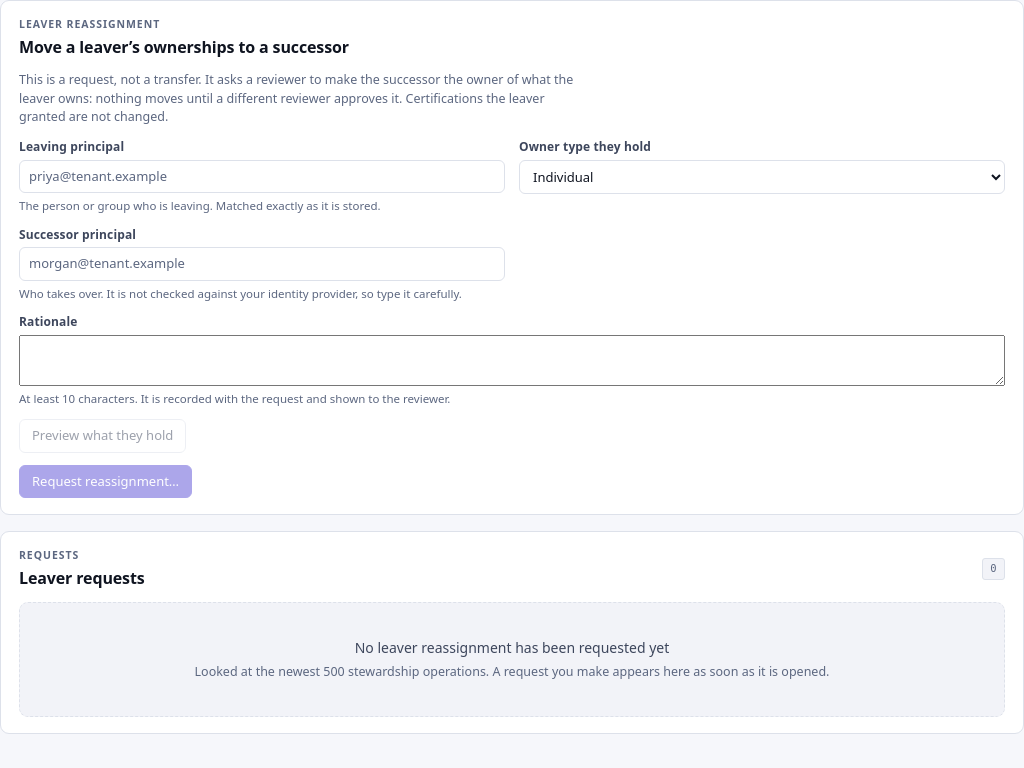
Leaver reassignment: the form › keeps the request off until it is complete, and says what is still needed
Expected: the button "Request reassignment…" is disabled, [19,465,192,498]
Type "priya" into the field labelled "Leaving principal".
click(262, 177); type("priya")  # box [19,160,505,193]
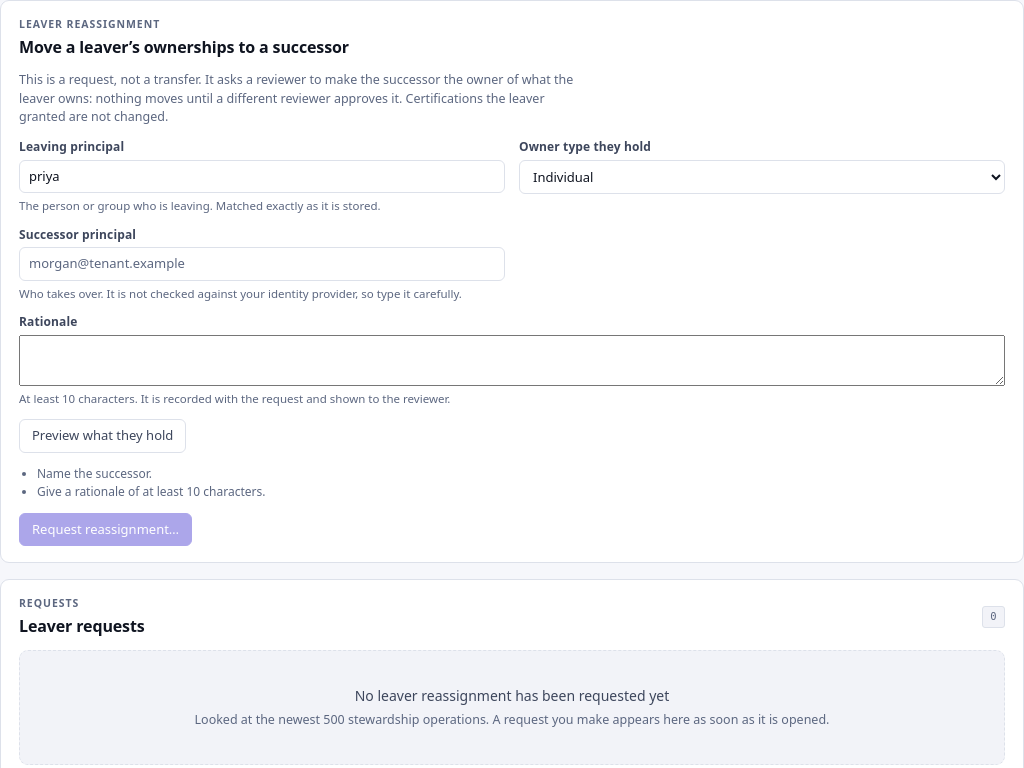
Expected: the list named "What is still needed" shows "Name the successor.", [37,465,152,482]
Expected: the list named "What is still needed" shows "Give a rationale of at least 10 characters.", [37,483,265,500]
Type "morgan" into the field labelled "Successor principal".
click(262, 264); type("morgan")  # box [19,247,505,281]
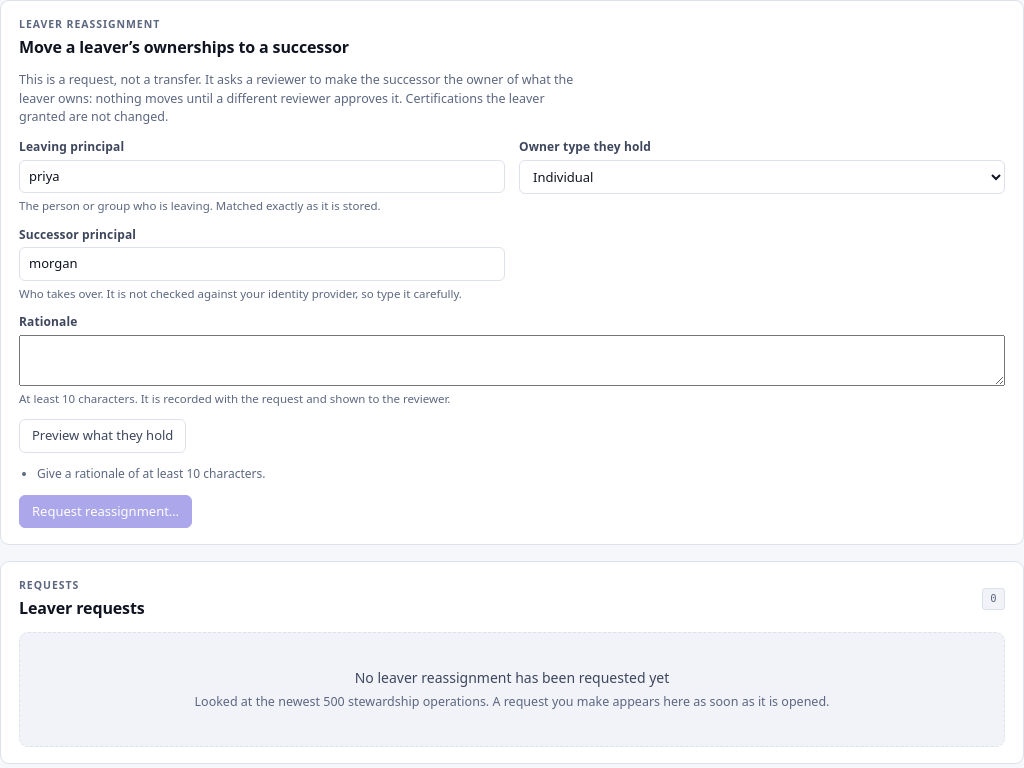
Type "too short" into the text box labelled "Rationale".
click(512, 360); type("too short")  # box [19,335,1005,386]
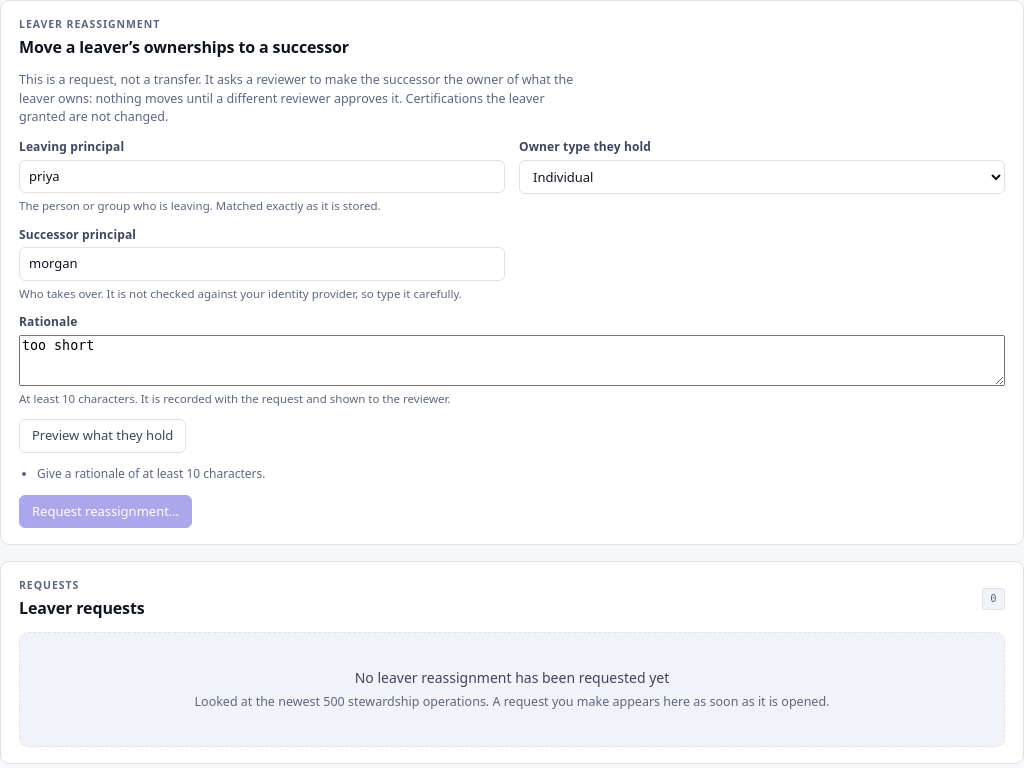
Expected: the button "Request reassignment…" is disabled, [19,495,192,528]
Replace the text in the text box labelled "Rationale" with "Priya left the bank on 2026-09-18." at (512, 360), box [19,335,1005,386]
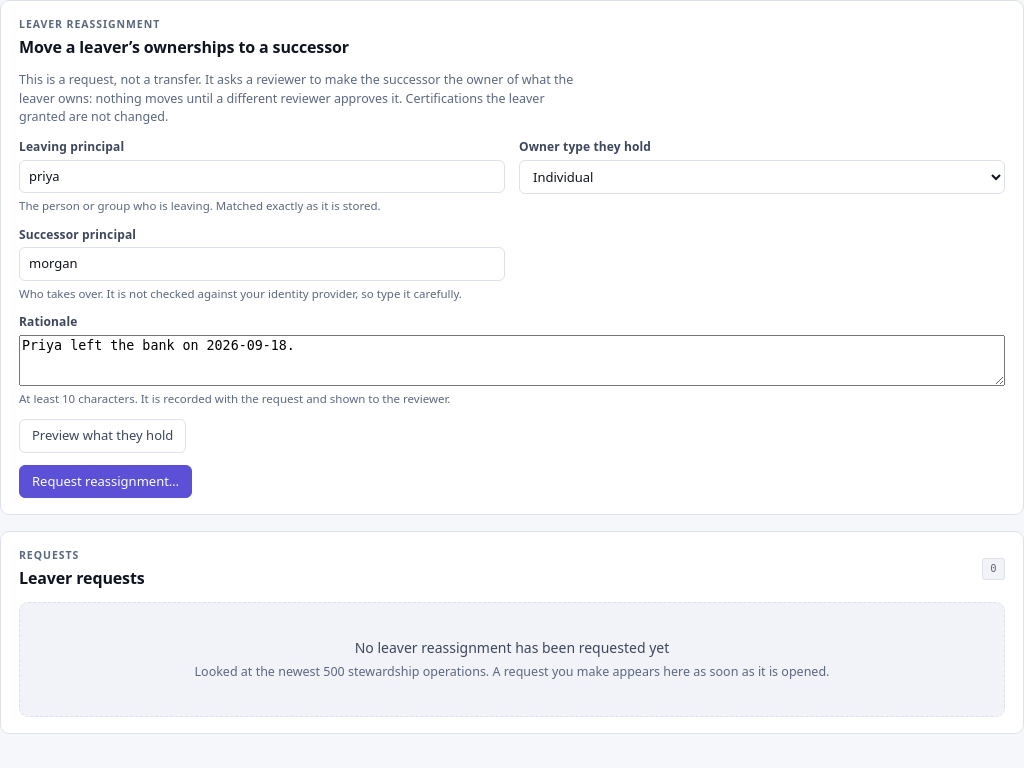
Expected: the button "Request reassignment…" is enabled, [19,465,192,498]
